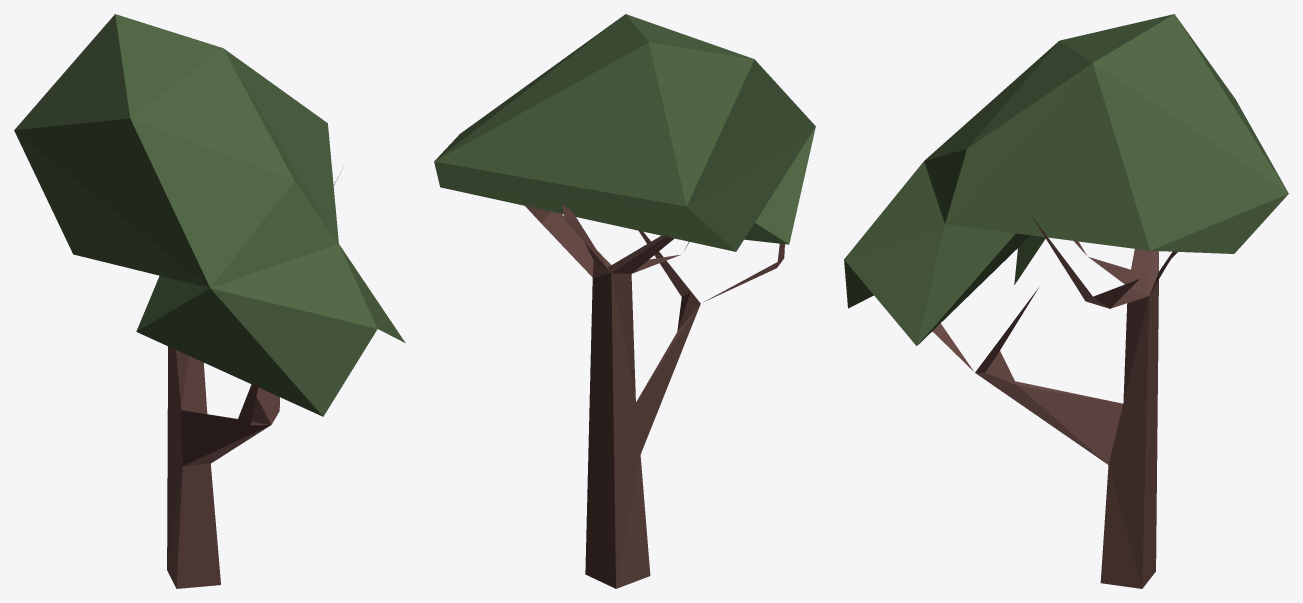
Rendered from qn_tree_b_lod.glb.
3 views of the same model, side by side, from view 1: azimuth 30°, elevation 25°; view 2: azimuth 150°, elevation 25°; view 3: azimuth 270°, elevation 25° (orthographic). The views are drawn at different scales.
Parts seen in each view (by area): view 1: qn_tree_b_lod; view 2: qn_tree_b_lod; view 3: qn_tree_b_lod.
Part boxes in pixels (bbox=[...]): qn_tree_b_lod: bbox=[14, 14, 405, 588]; qn_tree_b_lod: bbox=[434, 14, 815, 588]; qn_tree_b_lod: bbox=[844, 14, 1288, 588].
Size of the model in its own units: 1.57 by 3.12 by 2.34.
